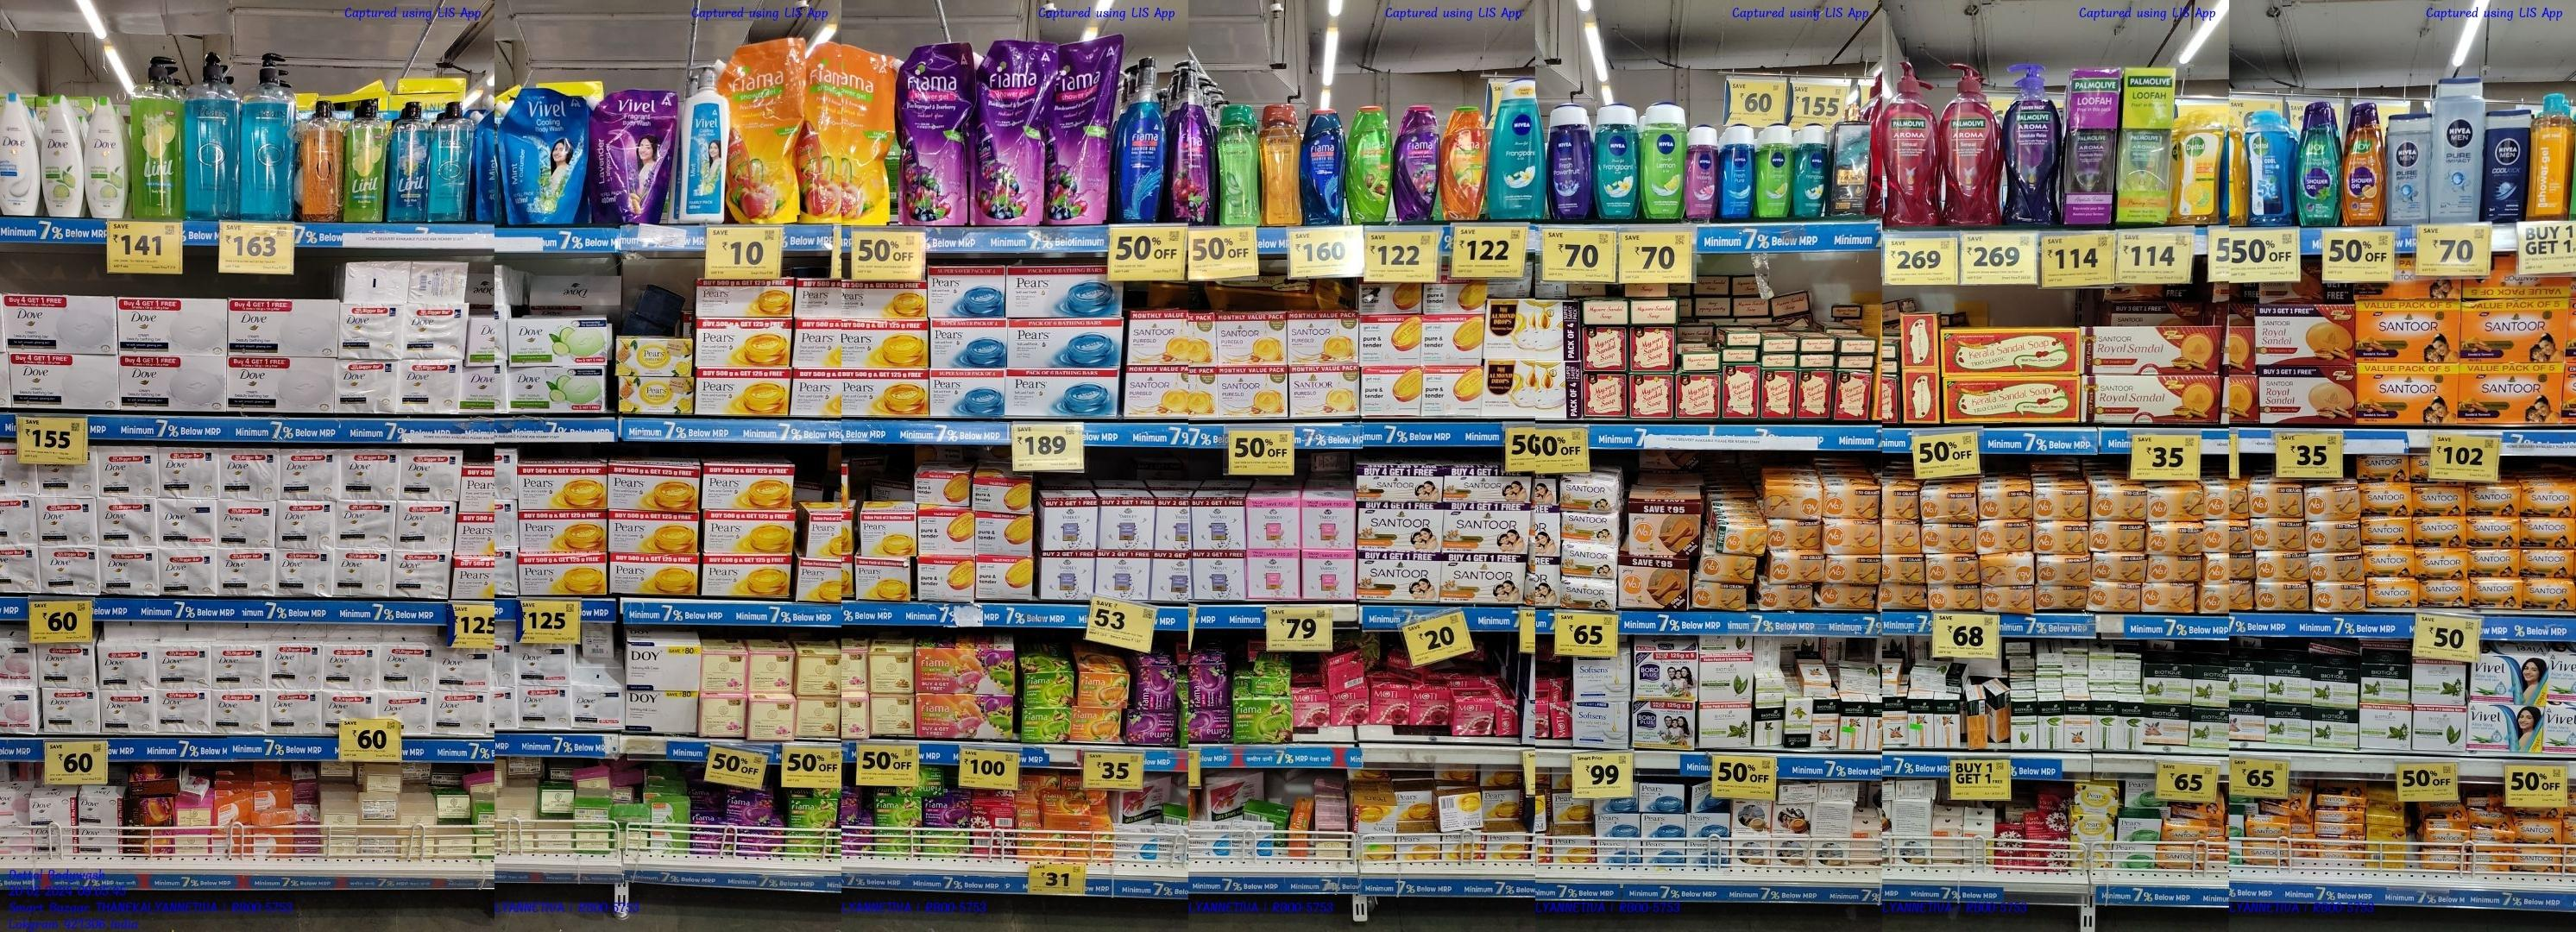Dettol_Bodywash_Cool: (2244, 113, 2292, 225)
Dettol_Bodywash_Refresh: (2175, 107, 2221, 225)
Dove_Gentle_Exfoliating_Body_Wash_250ML: (0, 90, 41, 215)
Dove_Refreshing_Body_Wash_250ML: (43, 92, 85, 217), (89, 95, 126, 219)
Fiama_Shower_Gel_Lemongrass_and_Jojoba_250ML: (1347, 107, 1390, 220)
Fiama_Shower_Gel_Peach_and_Avocado_250ML: (1442, 107, 1485, 217)
Get_Real_Shower_Gel_Moisturising_Glycerin_300ML: (1258, 105, 1303, 225)
Joy_Shower_Gel_Mandarin_and_Lemongrass_250ML: (2344, 100, 2384, 225)
Joy_Shower_Gel_Mint_and_Eucalyptus_250ML: (2297, 99, 2341, 230)
Liril_Cooling_Mint_Body_Wash_250ML: (389, 100, 429, 222)
Liril_Lime_and_Tea_Tree_Oil_Body_Wash_250ML: (343, 95, 386, 222)
Nivea_Shower_Gel_Frangipani_and_Oil_250ML: (1490, 74, 1536, 220), (1597, 102, 1640, 219)
Nivea_Shower_Gel_Fresh_Powerfruit_250ML: (1546, 108, 1594, 217)
Nivea_Shower_Gel_Lemon_and_Oil_250ML: (1643, 105, 1686, 217)
